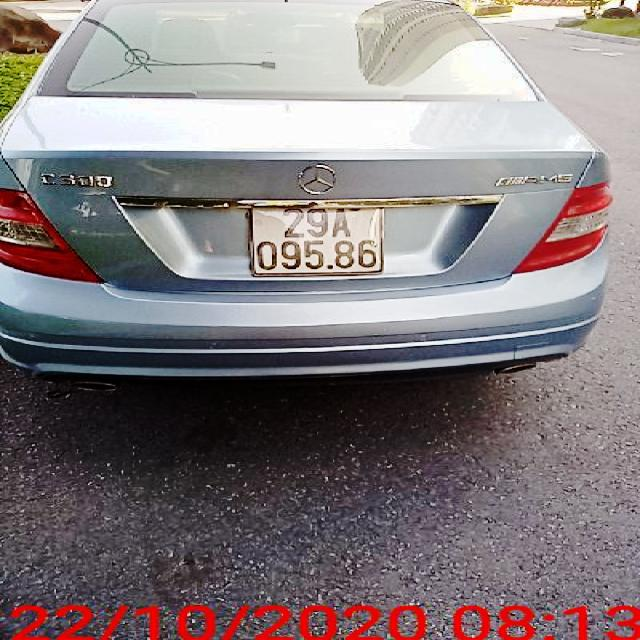license_plate: (250, 205, 388, 277)
